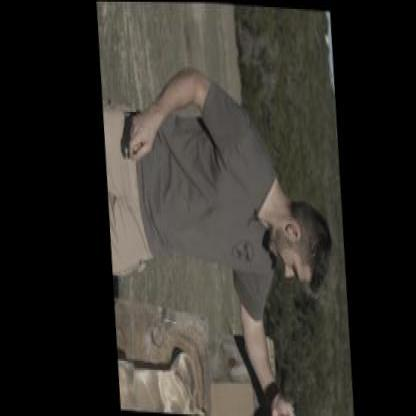knife: (243, 398, 292, 414)
